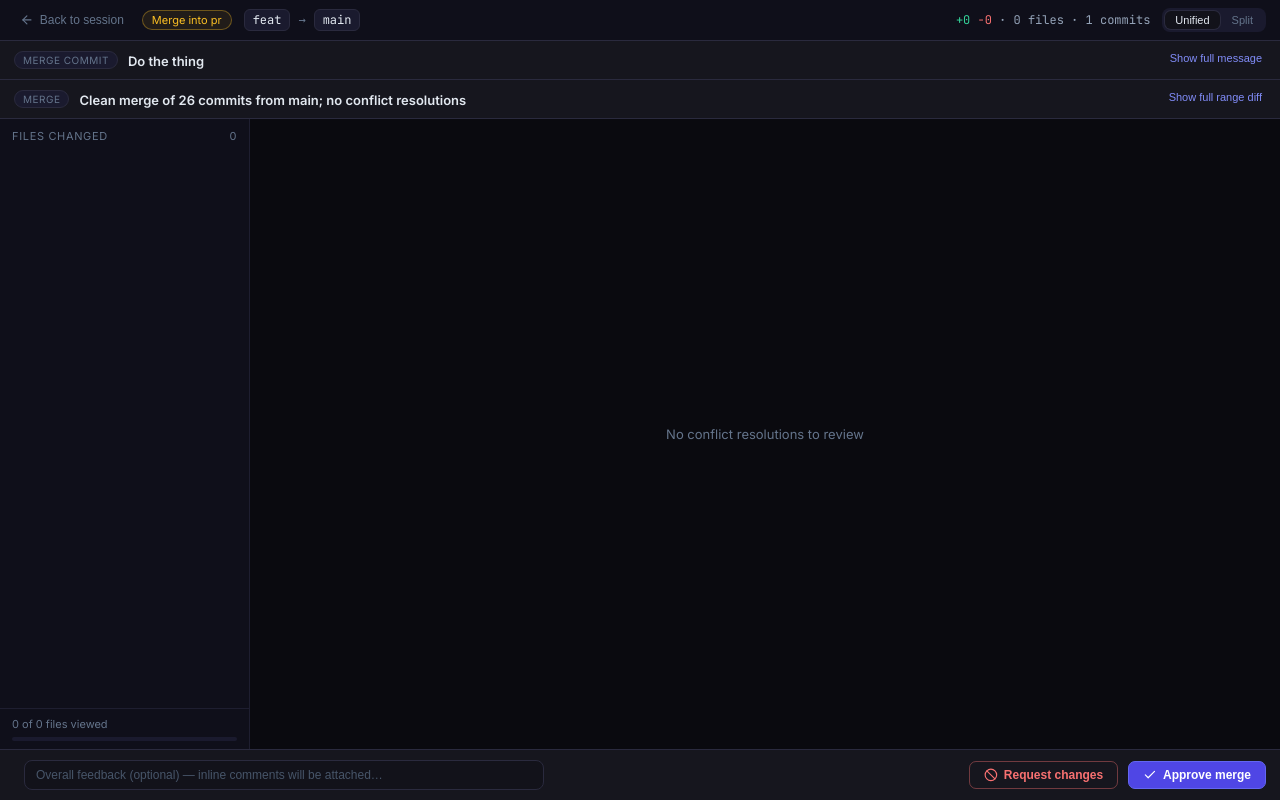
MergeReviewTakeover › explains a clean merge candidate and toggles to the full range
This screenshot has width=1280, height=800.
Expected: the text "Clean merge of 26 commits from main; no conflict resolutions" is shown, [80,92,466,108]
Expected: the text "No conflict resolutions to review" is shown, [666,426,864,442]
Click the button "Show full range diff".
click(1215, 97)  # box [1165,89,1266,105]
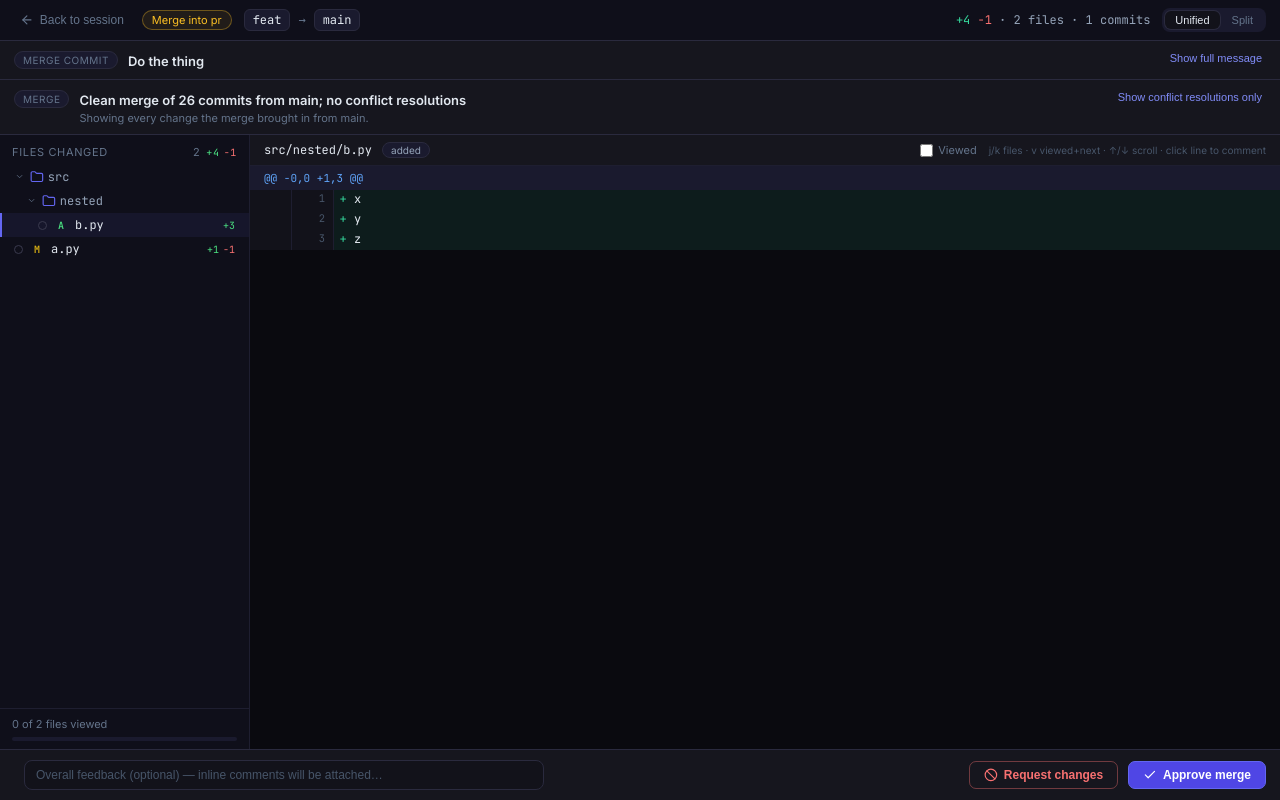
Expected: the text "a.py" is shown, [51,241,80,257]
Expected: the button "Show conflict resolutions only" is shown, [1114,89,1266,105]
